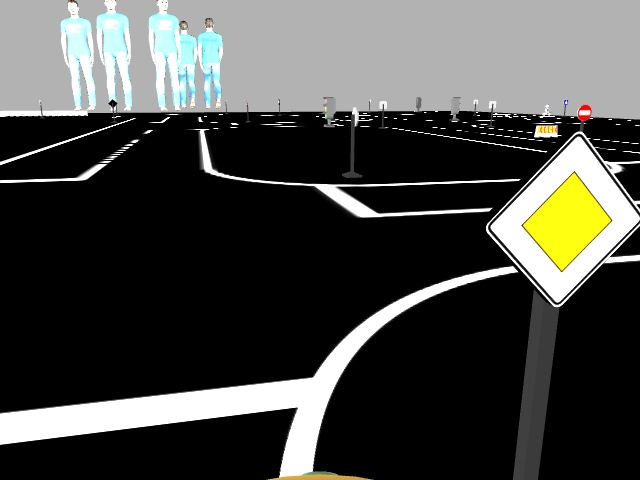ClosedRoadStand: (533, 122, 561, 138)
NoEntry: (575, 102, 592, 123)
Priority: (484, 129, 639, 309)
